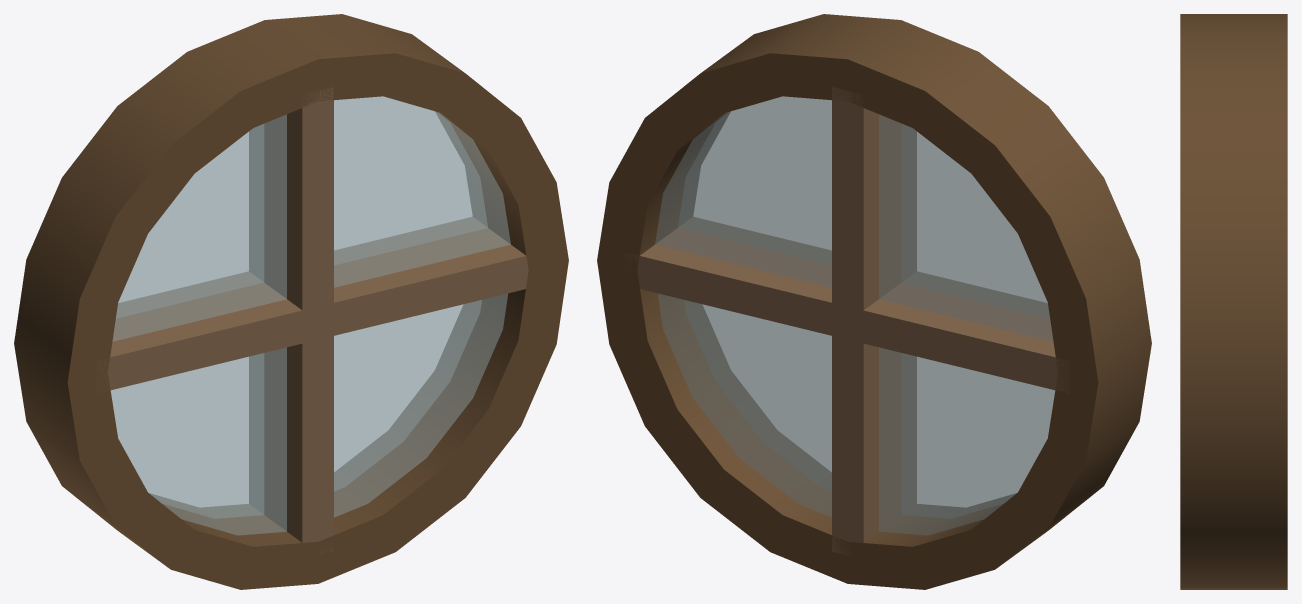
File: pencere 2.1.fbx
3 views of the same model, side by side, from view 1: azimuth 30°, elevation 25°; view 2: azimuth 150°, elevation 25°; view 3: azimuth 270°, elevation 25° (orthographic).
Parts seen in each view (by area): view 1: pPipe3; view 2: pPipe3; view 3: pPipe3.
Boxes of the visible parts, left/top/right/bottom form: pPipe3: left=14, top=14, right=568, bottom=589; pPipe3: left=597, top=14, right=1151, bottom=589; pPipe3: left=1180, top=14, right=1287, bottom=589.
Bounding box in the file's own units: 688 × 696 × 127.
